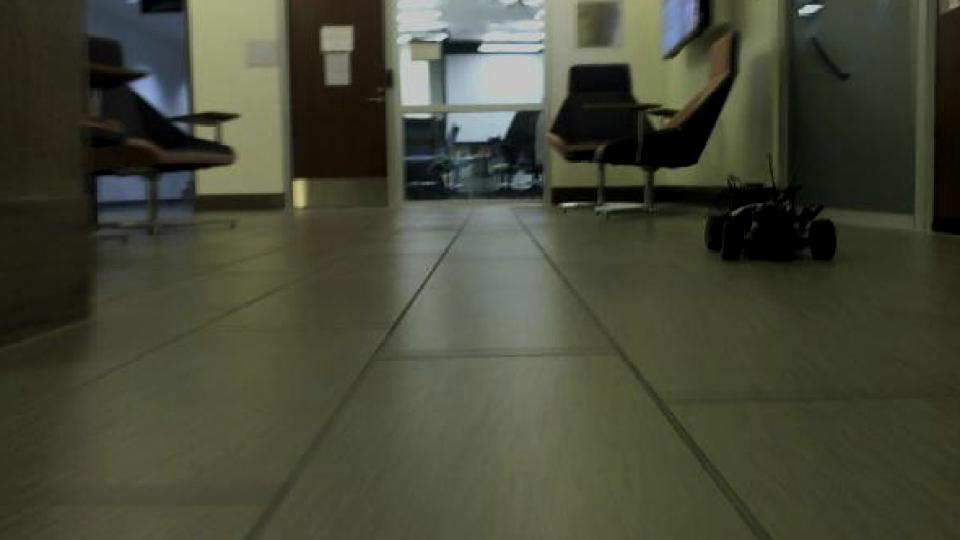car: (700, 152, 839, 265)
